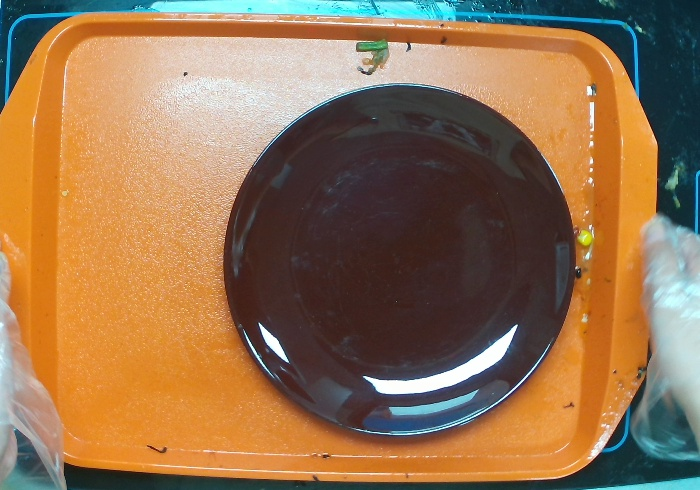HZYJPL-Ka_Fei_Yuan_Pan: (219, 74, 586, 440)
